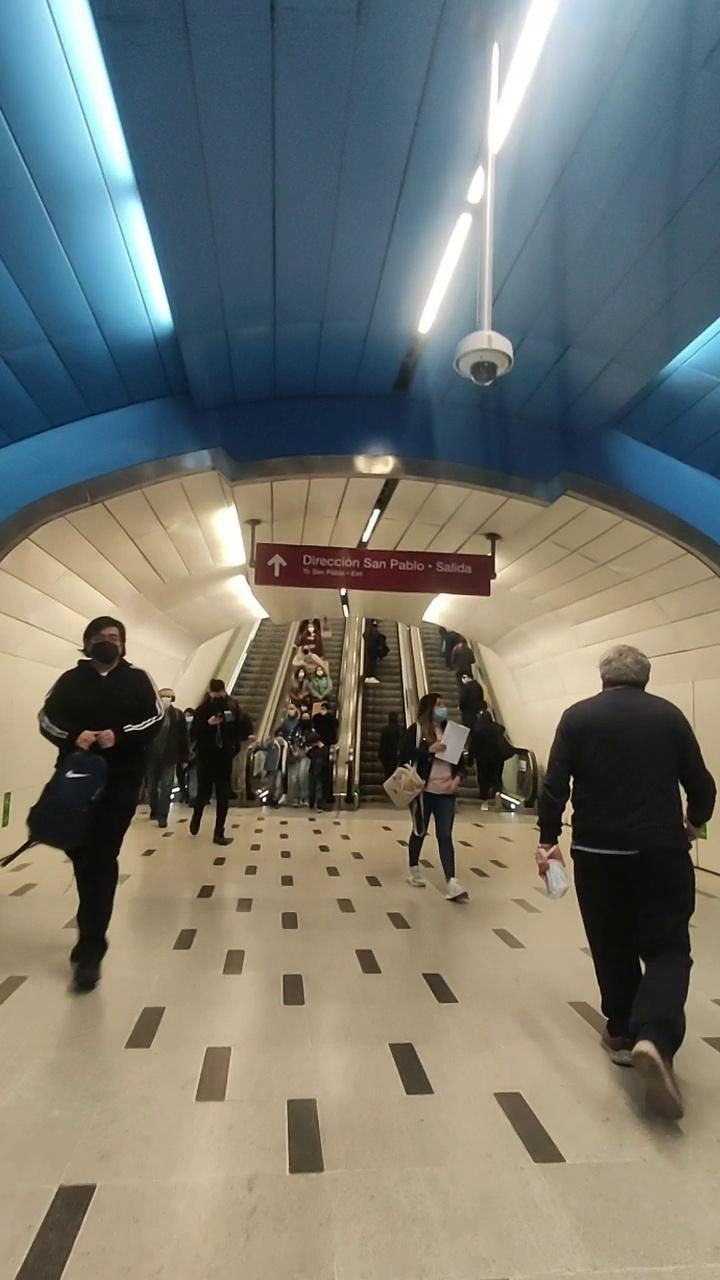up arrow: (262, 548, 297, 585)
